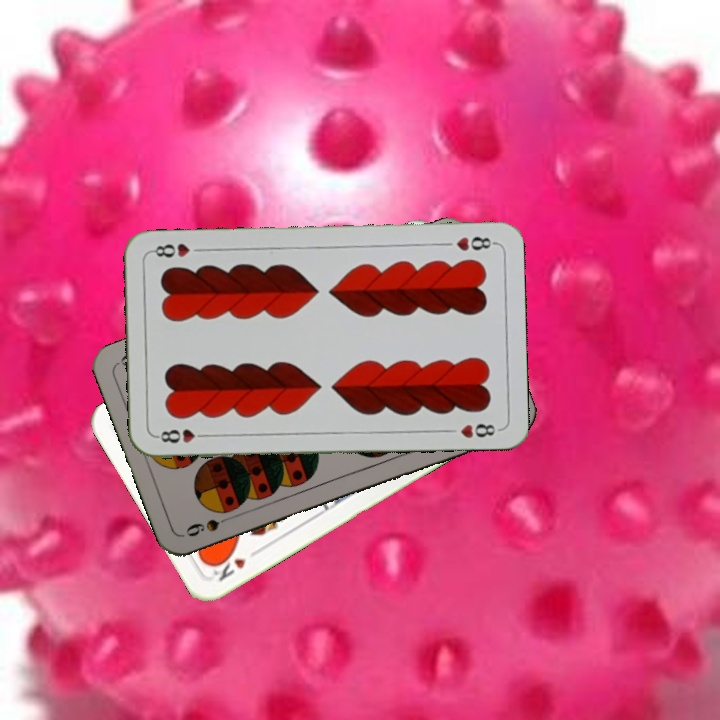H8: (153, 425, 212, 446), (452, 232, 497, 254)
HK: (204, 545, 263, 584)
S9: (182, 510, 238, 540)
